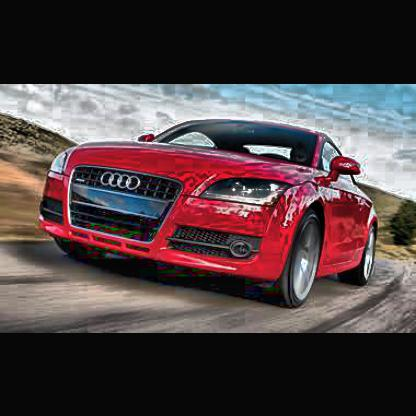Audi TT Hatchback 2011: (42, 121, 381, 310)
